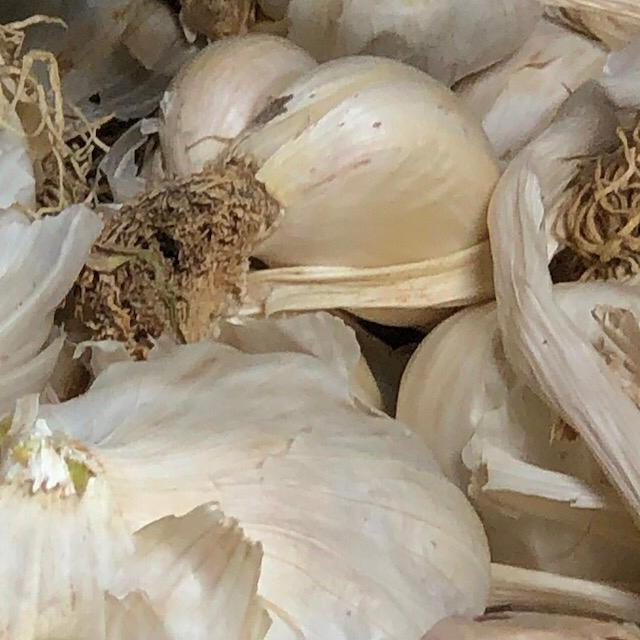garlic: (128, 5, 522, 352)
